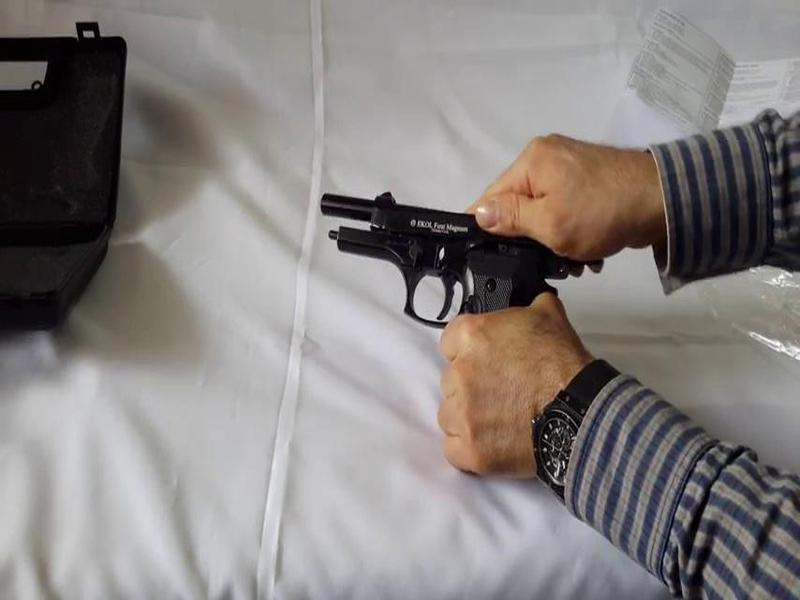Pistola: (314, 184, 581, 376)
